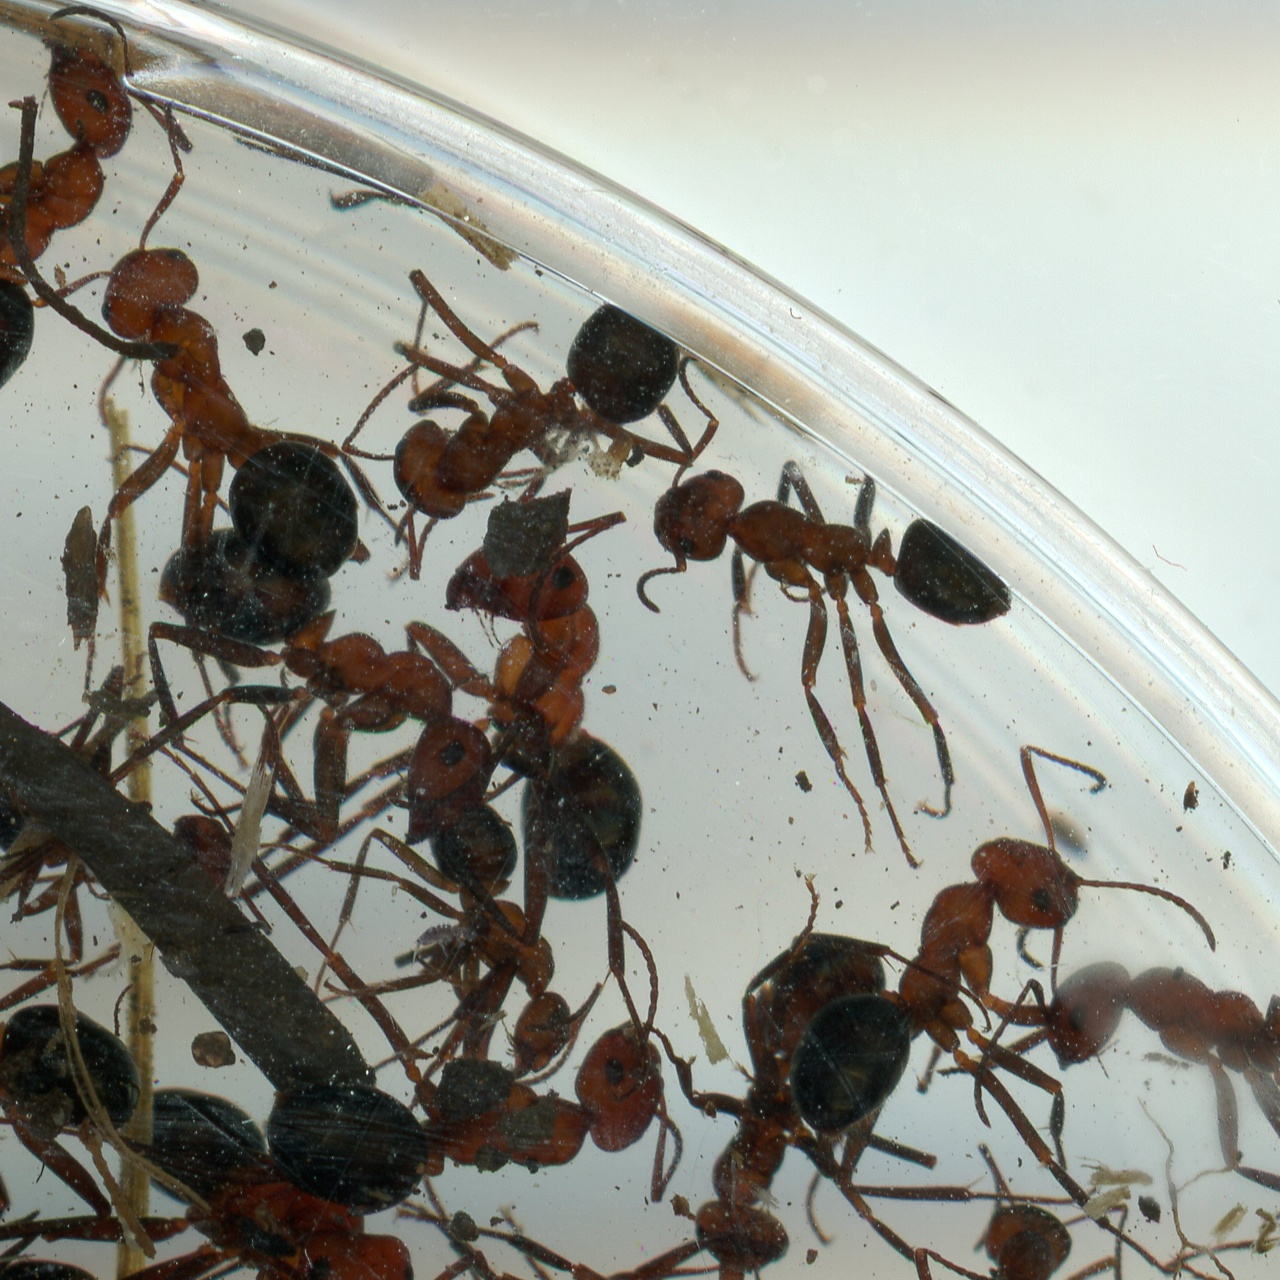arthropod: (741, 713, 1262, 1265), (0, 114, 459, 682), (625, 341, 1024, 884), (263, 907, 712, 1214), (968, 880, 1280, 1280), (138, 518, 503, 847), (648, 898, 958, 1280), (435, 492, 660, 978), (346, 256, 741, 531), (0, 1074, 438, 1280), (0, 0, 191, 472), (298, 776, 606, 1067), (386, 1203, 1076, 1280), (0, 922, 162, 1227), (945, 1125, 1163, 1280), (409, 921, 483, 973)
